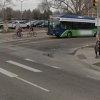Bus: (45, 11, 96, 39)
